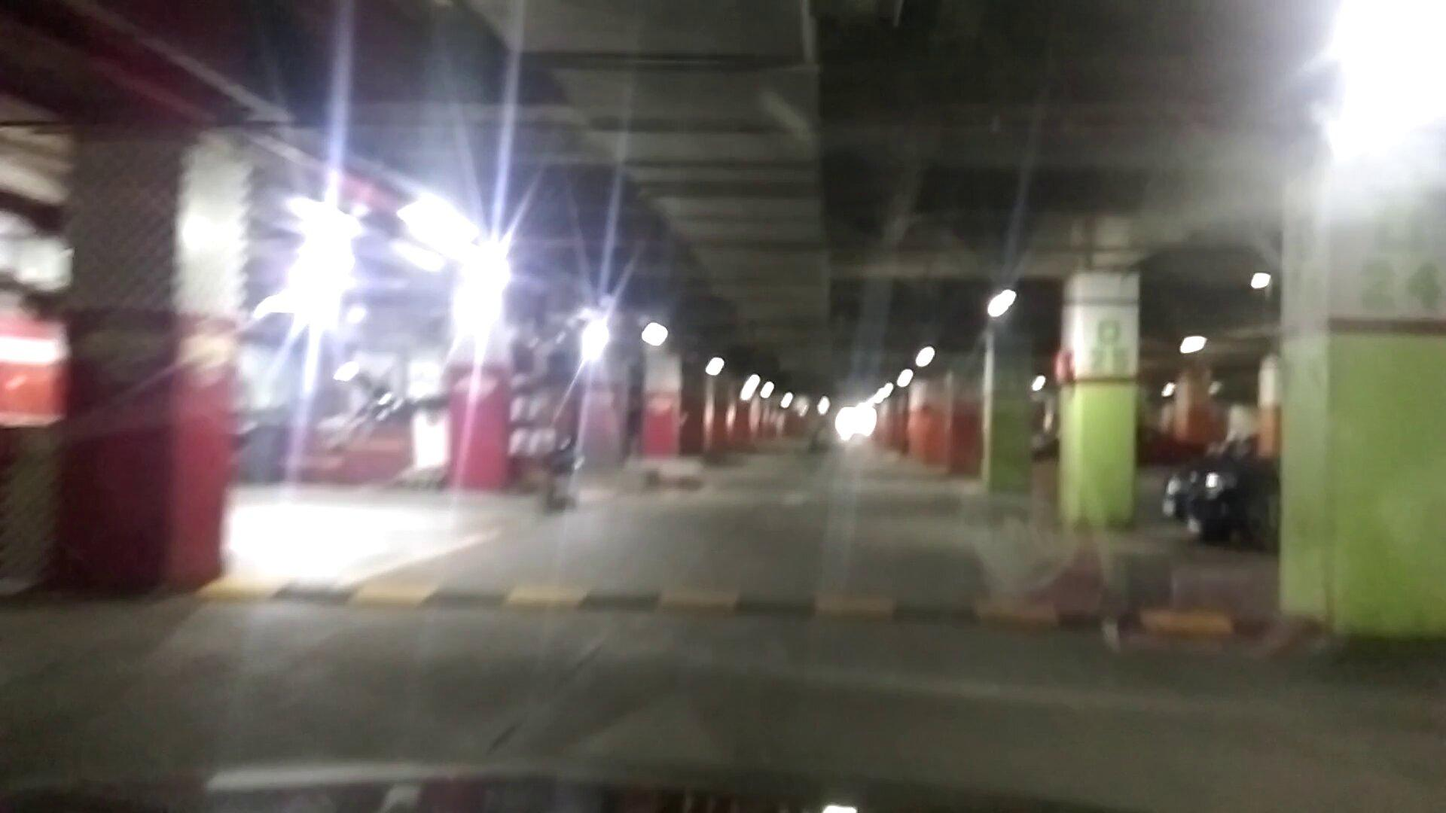Bump: (191, 572, 1312, 637)
